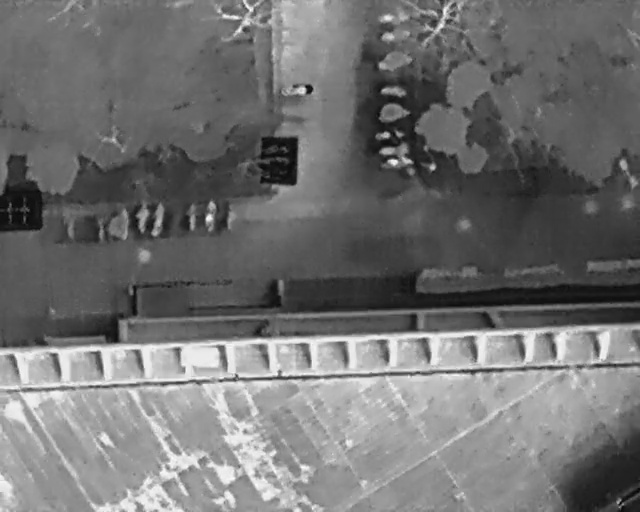Bicycle: (375, 49, 413, 70), (110, 205, 129, 241), (378, 103, 411, 123), (152, 202, 166, 238), (376, 11, 410, 24), (205, 197, 217, 233), (379, 85, 410, 98), (137, 197, 148, 233), (280, 84, 315, 95), (379, 29, 412, 40), (187, 203, 198, 233), (374, 129, 406, 139), (380, 145, 408, 155), (384, 158, 414, 167)
